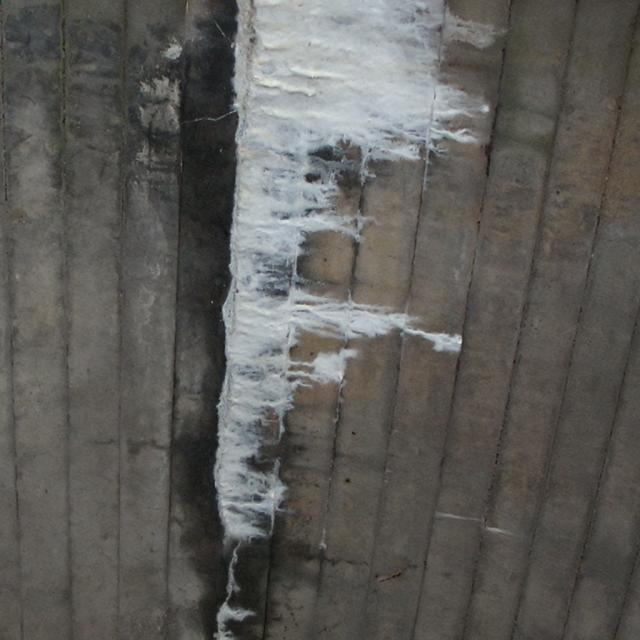D01: (212, 18, 469, 637)
